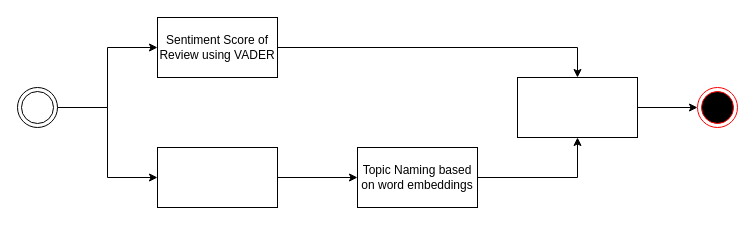
The diagram is 755 pixels wide and 225 high, and some of its shapes have lost their labels. Each missing label, with the centre of its shape:
"Sentiment scores for topics" goes at (x=577, y=107).
"Topic Extraction using LDA" goes at (x=217, y=177).
